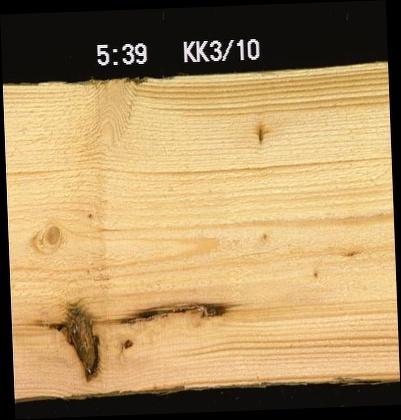small_knot: (254, 124, 264, 147), (310, 269, 320, 279), (260, 232, 268, 239)
sound_knot: (42, 222, 60, 245)
wave: (2, 76, 175, 87)
